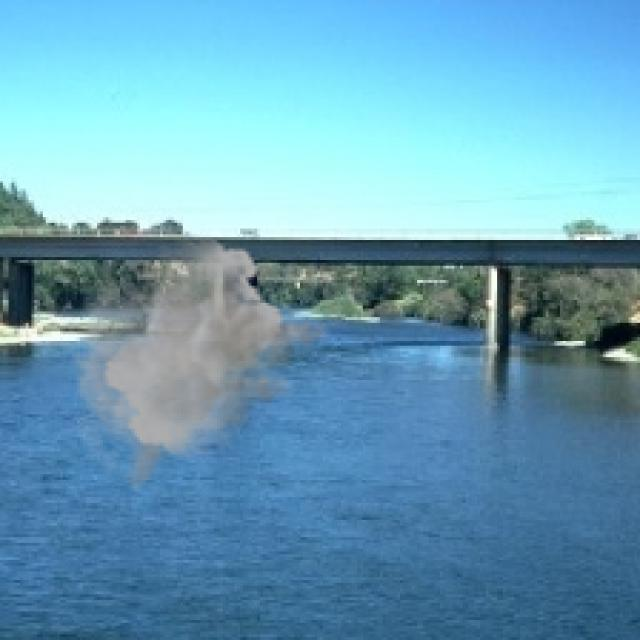Smoke: (68, 234, 334, 492)
